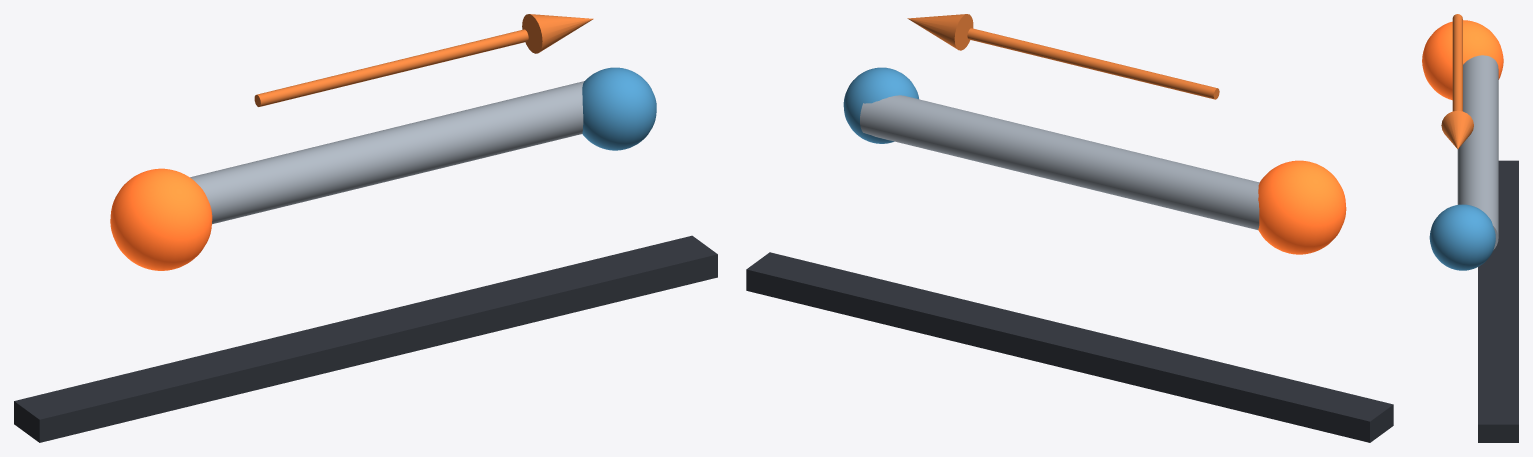
Rendered from physics-p1-conduction.glb.
The picture shows the model from 3 angles, left to right: view 1: azimuth 30°, elevation 25°; view 2: azimuth 150°, elevation 25°; view 3: azimuth 270°, elevation 25°; orthographic projection. The views are drawn at different scales.
Parts seen in each view (by area): view 1: thermal-bench-reference-base, metal-rod-conducts-heat, hot-end-particle-vibrating, cool-end-particle-warming, heat-conducts-through-touch-shaft, heat-conducts-through-touch-head; view 2: thermal-bench-reference-base, metal-rod-conducts-heat, hot-end-particle-vibrating, heat-conducts-through-touch-shaft, cool-end-particle-warming, heat-conducts-through-touch-head; view 3: thermal-bench-reference-base, metal-rod-conducts-heat, cool-end-particle-warming, hot-end-particle-vibrating, heat-conducts-through-touch-shaft, heat-conducts-through-touch-head.
Part boxes in pixels (<box>): thermal-bench-reference-base: <box>14,235,717,442</box>; metal-rod-conducts-heat: <box>190,81,584,224</box>; hot-end-particle-vibrating: <box>110,168,212,270</box>; cool-end-particle-warming: <box>582,67,656,150</box>; heat-conducts-through-touch-shaft: <box>254,29,528,106</box>; heat-conducts-through-touch-head: <box>522,14,593,53</box>; thermal-bench-reference-base: <box>746,252,1393,442</box>; metal-rod-conducts-heat: <box>860,95,1259,230</box>; hot-end-particle-vibrating: <box>1258,160,1346,254</box>; heat-conducts-through-touch-shaft: <box>967,28,1219,99</box>; cool-end-particle-warming: <box>843,67,918,143</box>; heat-conducts-through-touch-head: <box>907,14,973,50</box>; thermal-bench-reference-base: <box>1478,160,1518,442</box>; metal-rod-conducts-heat: <box>1457,55,1498,249</box>; cool-end-particle-warming: <box>1429,204,1495,270</box>; hot-end-particle-vibrating: <box>1422,20,1503,100</box>; heat-conducts-through-touch-shaft: <box>1452,14,1462,111</box>; heat-conducts-through-touch-head: <box>1441,110,1473,149</box>.
Size of what is drawn, in the model's own units: 2.45 by 1.1 by 0.38.
